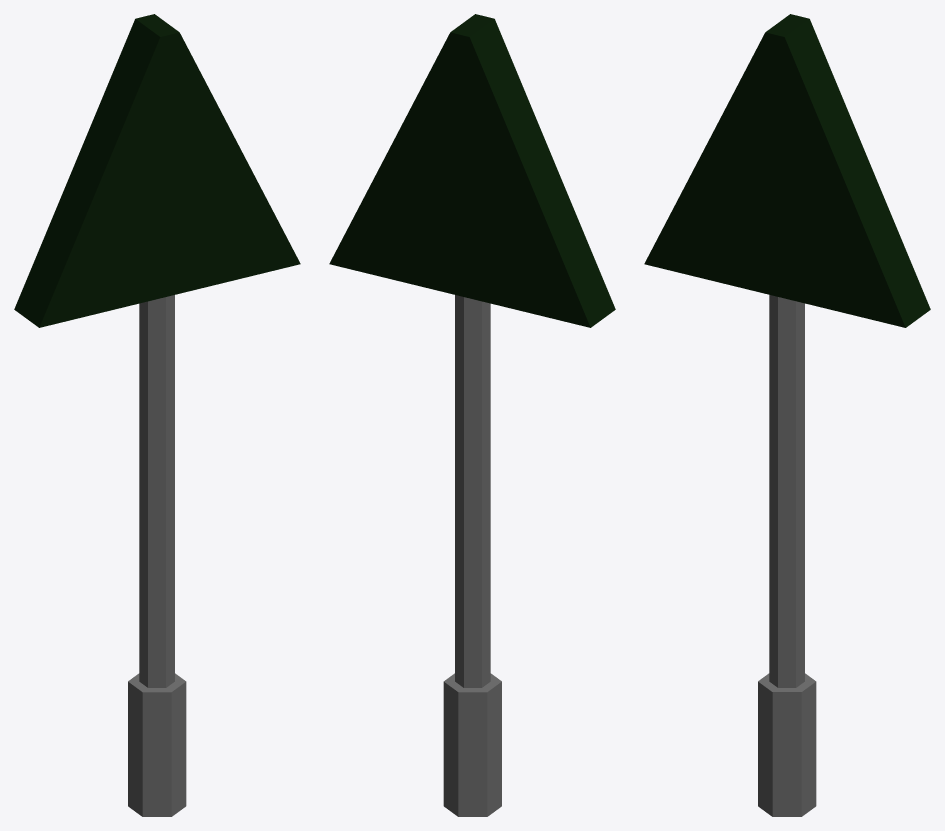
File: SignBoard_04.obj
3 views of the same model, side by side, from view 1: azimuth 30°, elevation 25°; view 2: azimuth 150°, elevation 25°; view 3: azimuth 330°, elevation 25° (orthographic).
Visible parts, largest first — view 1: SignBoard_04_Cylinder.022; view 2: SignBoard_04_Cylinder.022; view 3: SignBoard_04_Cylinder.022.
Boxes of the visible parts, <box> form: SignBoard_04_Cylinder.022: <box>14,14,300,816</box>; SignBoard_04_Cylinder.022: <box>329,14,615,816</box>; SignBoard_04_Cylinder.022: <box>644,14,930,816</box>.
Size of the model in its own units: 5.7 by 16.26 by 1.1.
